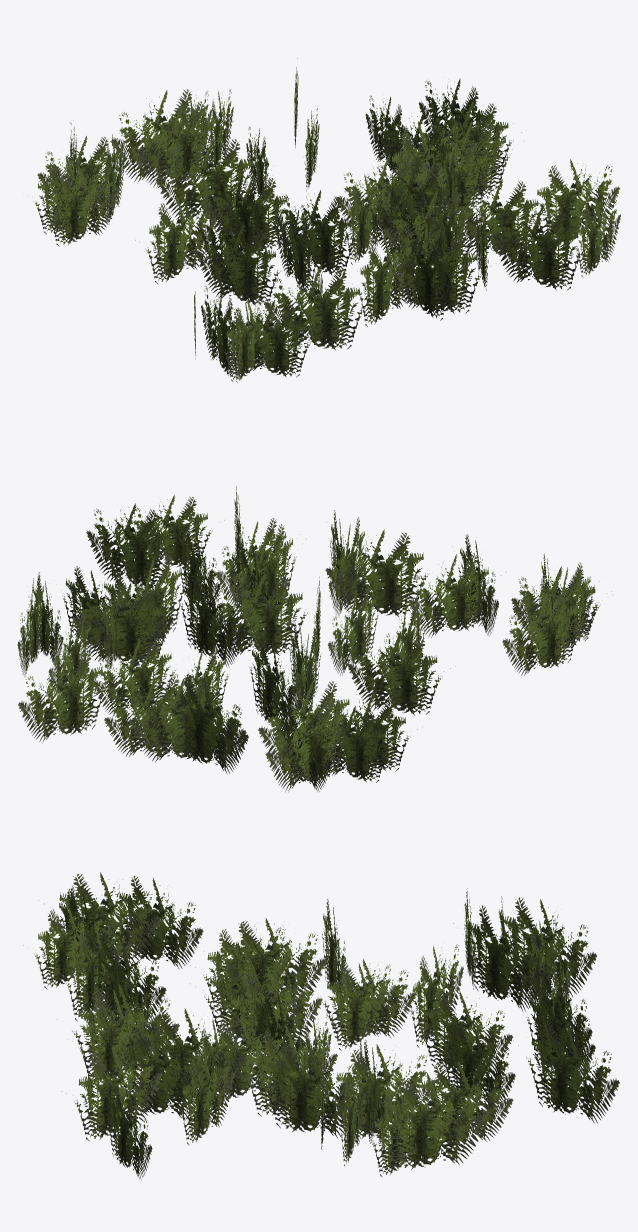
File: shrub_2.glb
The picture shows the model from 3 angles, top to bottom: view 1: azimuth 30°, elevation 25°; view 2: azimuth 150°, elevation 25°; view 3: azimuth 270°, elevation 25°; orthographic projection. The views are drawn at different scales.
Parts seen in each view (by area): view 1: red-baron-grass-ornamental-Va7qqJC-600_red-baron-grass-ornam; view 2: red-baron-grass-ornamental-Va7qqJC-600_red-baron-grass-ornam; view 3: red-baron-grass-ornamental-Va7qqJC-600_red-baron-grass-ornam.
Boxes of the visible parts, bbox=[...] form: red-baron-grass-ornamental-Va7qqJC-600_red-baron-grass-ornam: bbox=[27, 58, 620, 382]; red-baron-grass-ornamental-Va7qqJC-600_red-baron-grass-ornam: bbox=[17, 486, 612, 792]; red-baron-grass-ornamental-Va7qqJC-600_red-baron-grass-ornam: bbox=[23, 872, 619, 1179].
Bounding box in the file's own units: 4.37 × 1.09 × 4.43.
Materials: 1 (1 with a texture image).
